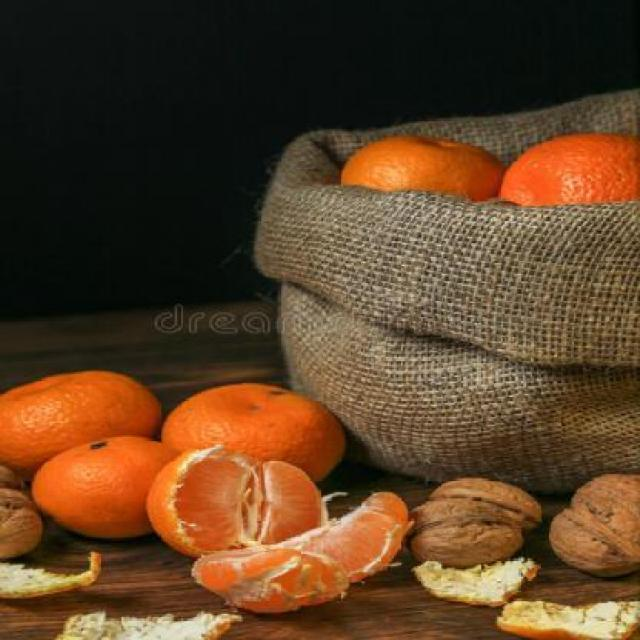Jeruk Sudah Matang: (161, 380, 345, 498), (0, 370, 168, 481), (332, 137, 512, 237), (31, 432, 196, 537), (494, 131, 638, 234)
